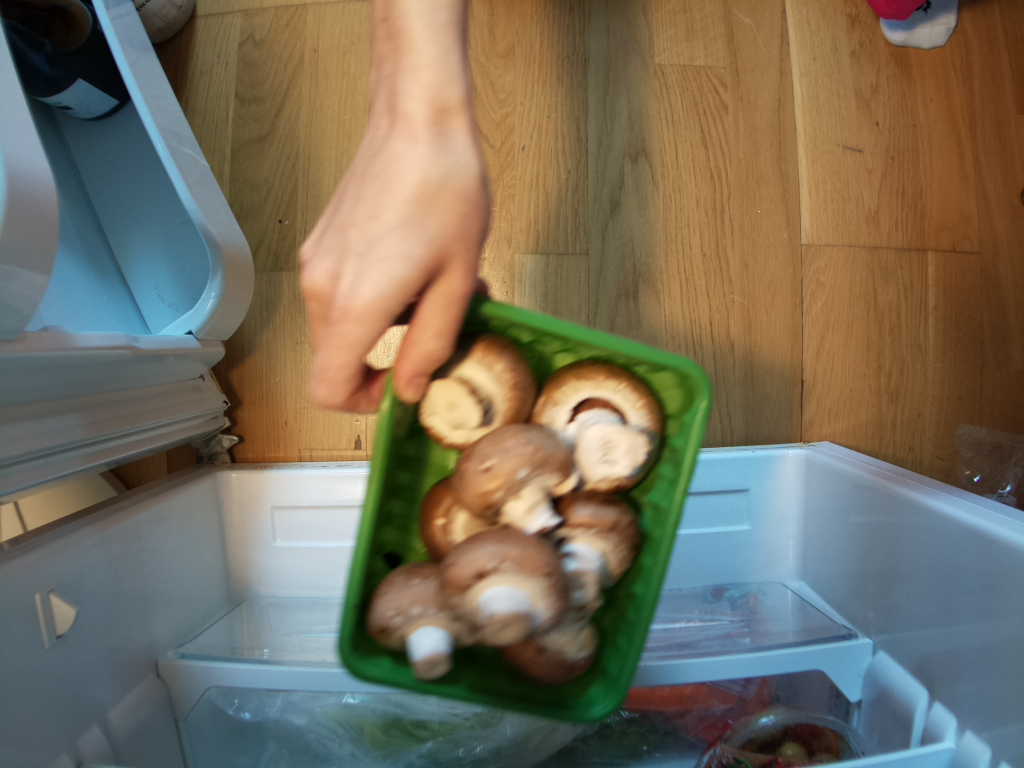mushrooms: (364, 300, 694, 716)
